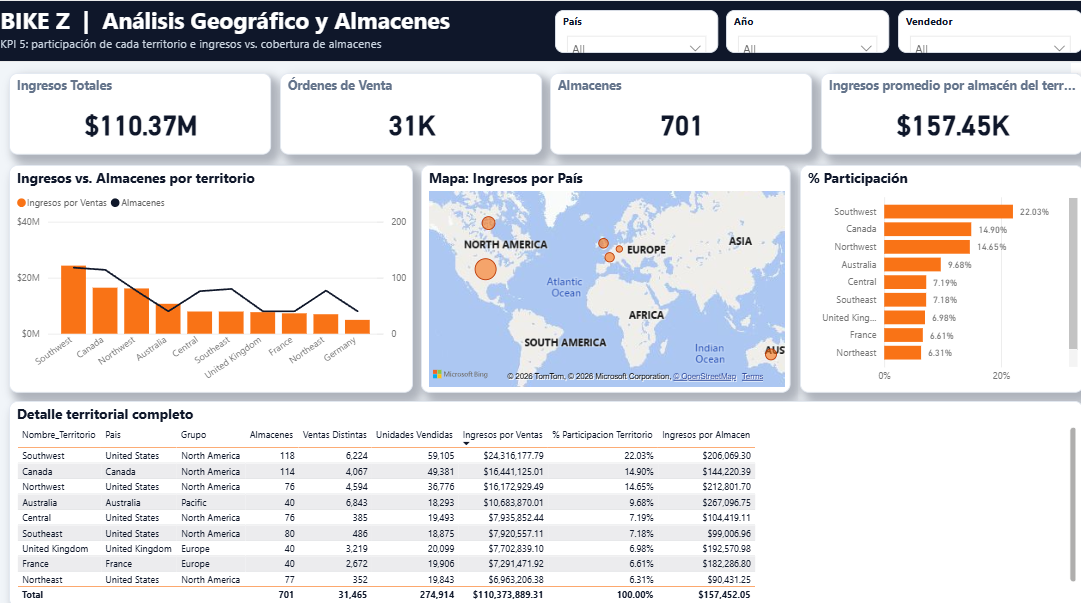

This screenshot's page, from the dashboard's own definition file:
{"tool":"powerbi","page":{"name":"Análisis Geográfico","canvas":[1280,720],"ordinal":1},"visuals":[{"type":"textbox","box":[0,0,1280,72],"z":1000},{"type":"slicer","title":"País","fields":{"Values":["Dim_Territorio.Pais"]},"box":[650,12,190,50],"z":2000},{"type":"slicer","title":"Año","fields":{"Values":["Dim_Tiempo.Anio"]},"box":[850,12,190,50],"z":3000},{"type":"slicer","title":"Vendedor","fields":{"Values":["Dim_Empleado.TipoVendedor"]},"box":[1050,12,215,50],"z":4000},{"type":"card","title":"Ingresos Totales","fields":{"Values":["_Medidas.Ingresos por Ventas"]},"box":[15,85,305,95],"z":5000},{"type":"card","title":"Órdenes de Venta","fields":{"Values":["_Medidas.Ventas Distintas"]},"box":[330,85,305,95],"z":6000},{"type":"card","title":"Almacenes","fields":{"Values":["_Medidas.Almacenes"]},"box":[645,85,305,95],"z":7000},{"type":"card","title":"Ingresos por Almacén","fields":{"Values":["_Medidas.Ingresos por Almacen"]},"box":[960,85,305,95],"z":8000},{"type":"lineClusteredColumnComboChart","title":"Ingresos vs. Almacenes por territorio","fields":{"Category":["Dim_Territorio.Nombre_Territorio"],"Y":["_Medidas.Ingresos por Ventas"],"Y2":["_Medidas.Almacenes"]},"box":[15,192,470,265],"z":9000},{"type":"map","title":"Mapa: Ingresos por País","fields":{"Category":["Dim_Territorio.Pais"],"Size":["_Medidas.Ingresos por Ventas"]},"box":[495,192,430,265],"z":10000},{"type":"clusteredBarChart","title":"% Participación","fields":{"Category":["Dim_Territorio.Nombre_Territorio"],"Y":["_Medidas.% Participacion Territorio"]},"box":[935,192,330,265],"z":11000},{"type":"tableEx","title":"Detalle territorial completo","fields":{"Values":["Dim_Territorio.Nombre_Territorio","Dim_Territorio.Pais","Dim_Territorio.Grupo","_Medidas.Almacenes","_Medidas.Ventas Distintas","_Medidas.Unidades Vendidas","_Medidas.Ingresos por Ventas","_Medidas.% Participacion Territorio","_Medidas.Ingresos por Almacen"]},"box":[15,467,1250,240],"z":12000}]}

Visuals, with their boxes in screenshot pixels (x1, y1, x2, y2), scaled from the page's 1280x720 canvas onto the 1081x603 screenshot:
textbox: l=0, t=0, r=1080, b=60
"País" slicer: l=549, t=10, r=709, b=52
"Año" slicer: l=718, t=10, r=878, b=52
"Vendedor" slicer: l=887, t=10, r=1068, b=52
"Ingresos Totales" card: l=13, t=71, r=270, b=151
"Órdenes de Venta" card: l=279, t=71, r=536, b=151
"Almacenes" card: l=545, t=71, r=802, b=151
"Ingresos por Almacén" card: l=811, t=71, r=1068, b=151
"Ingresos vs. Almacenes por territorio" lineClusteredColumnComboChart: l=13, t=161, r=410, b=383
"Mapa: Ingresos por País" map: l=418, t=161, r=781, b=383
"% Participación" clusteredBarChart: l=790, t=161, r=1068, b=383
"Detalle territorial completo" tableEx: l=13, t=391, r=1068, b=592
